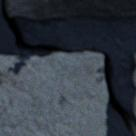brick: (0, 51, 106, 135), (6, 0, 135, 18), (132, 88, 135, 117), (132, 67, 135, 86), (133, 52, 135, 63)
crack: (1, 0, 135, 135)
